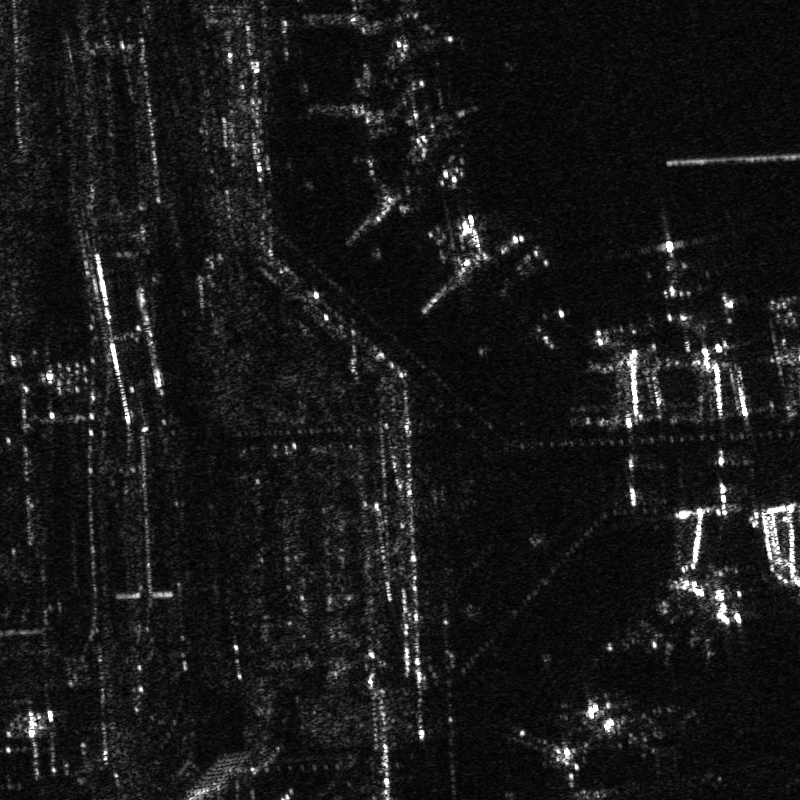A220: (640, 232, 711, 327)
A330: (575, 691, 698, 773)
